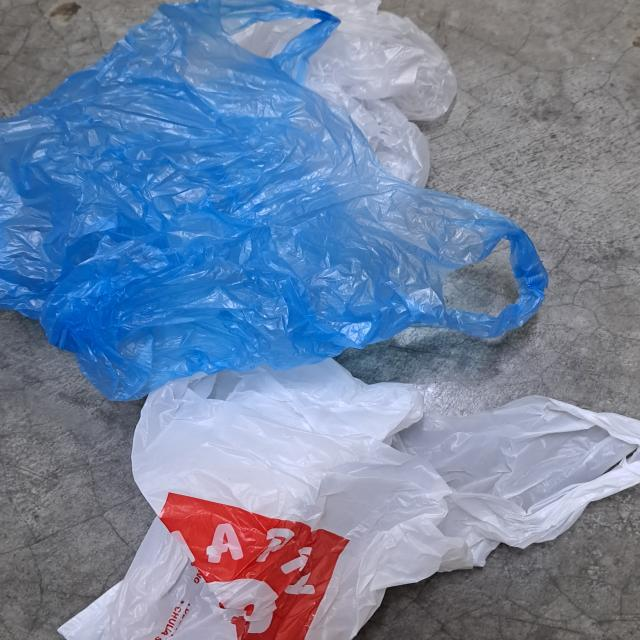plastic bag: (0, 0, 549, 402), (59, 344, 640, 640), (179, 0, 456, 196)
